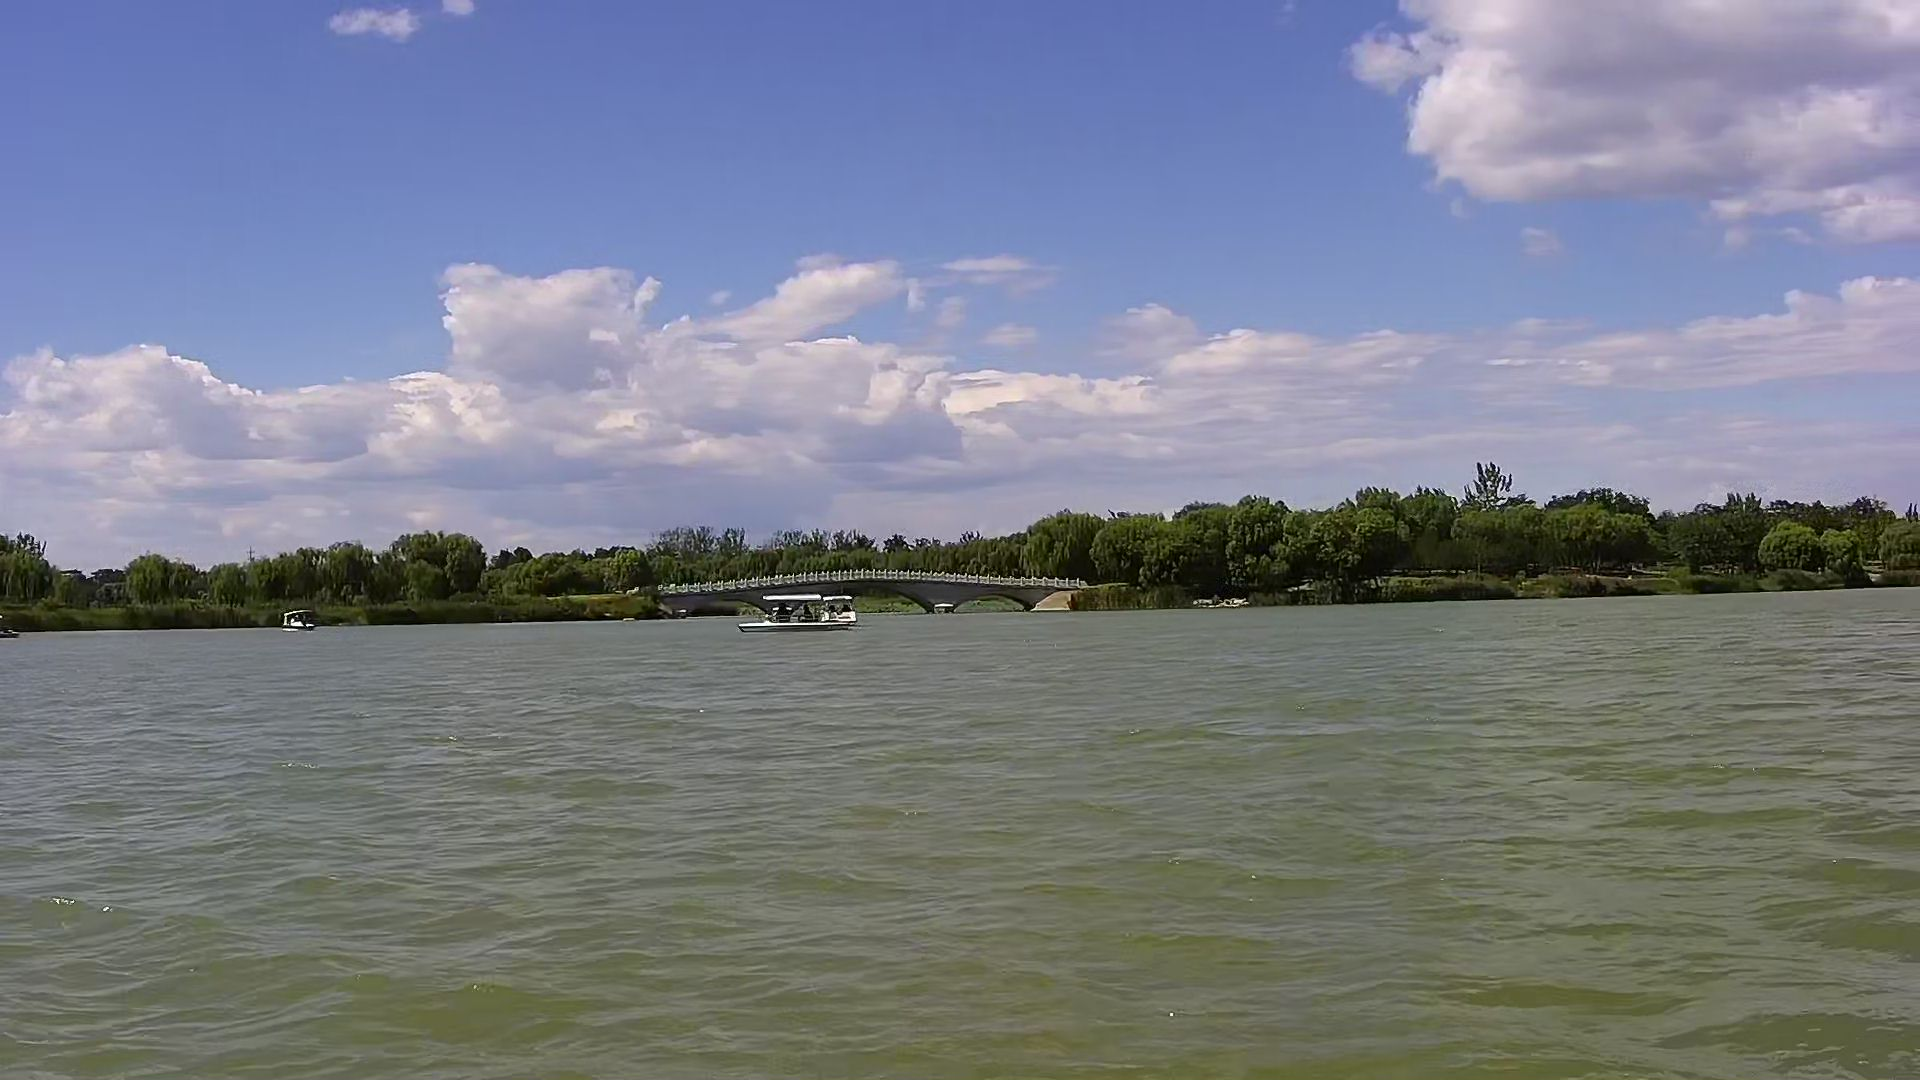boat: (735, 592, 819, 634), (818, 592, 862, 634), (277, 607, 324, 638)
bridge: (655, 568, 1093, 615)
